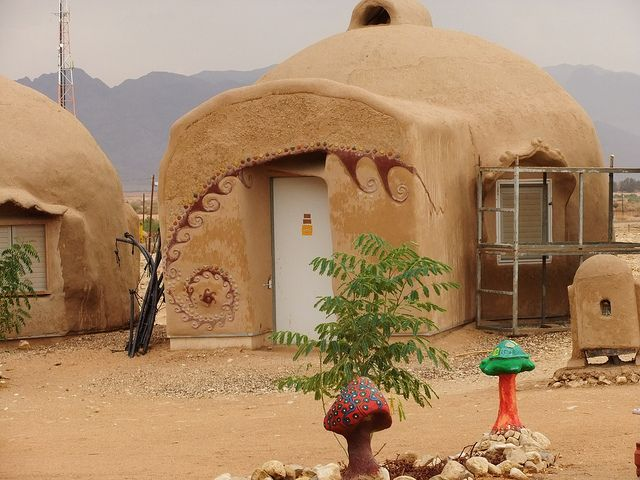Mud House: (141, 1, 616, 356), (2, 61, 139, 359)
